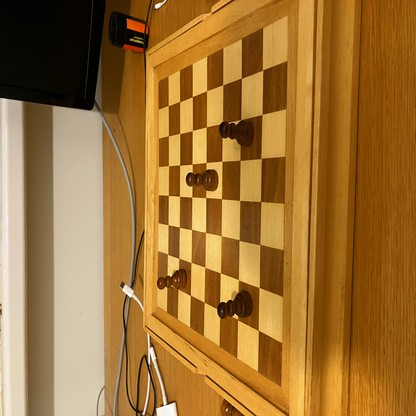pawn_black: (219, 122, 255, 146), (216, 295, 251, 319), (186, 170, 219, 190), (157, 272, 187, 291)
